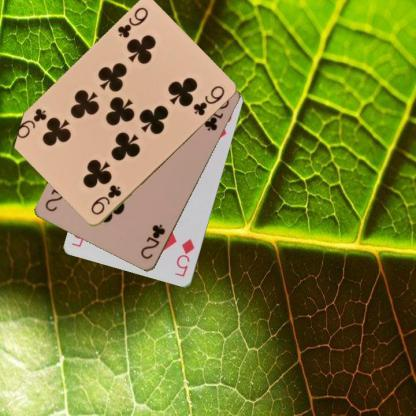2c: (137, 222, 167, 261)
5d: (172, 236, 196, 278)
9c: (114, 4, 150, 40), (88, 182, 122, 217)
